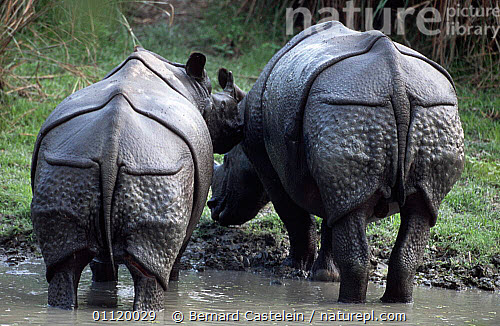rhinoceros: (202, 29, 466, 303), (25, 44, 241, 312)
